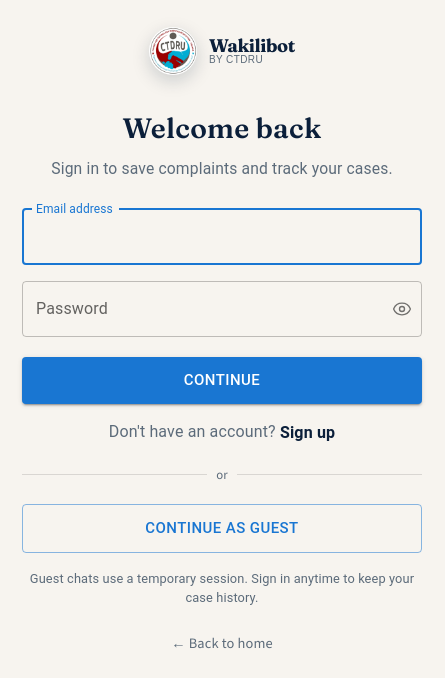
Test: requires an email
Type "secret1" into the password field labelled "Password".
click(199, 308); type("secret1")  # box x1=22 y1=280 x2=376 y2=336
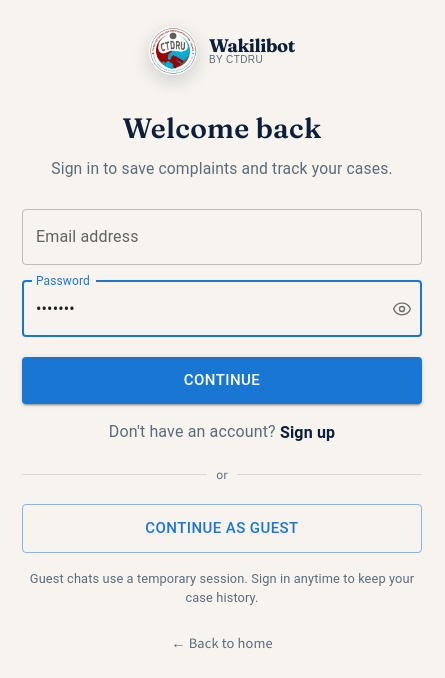
Click the button "Continue".
click(222, 380)  # box x1=22 y1=356 x2=422 y2=404
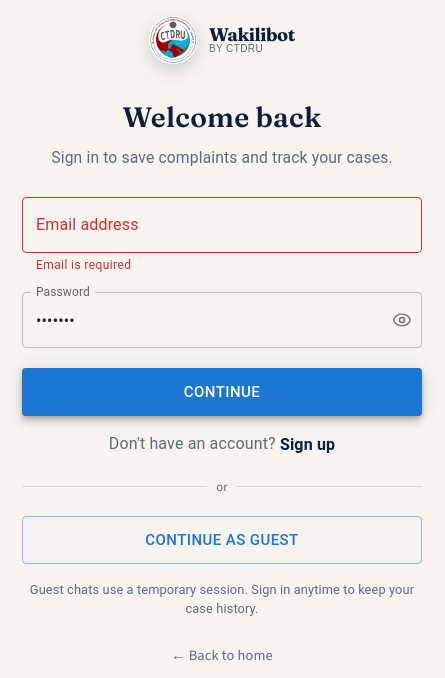
Expected: the text "Email is required" is shown, x1=36 y1=258 x2=131 y2=272
